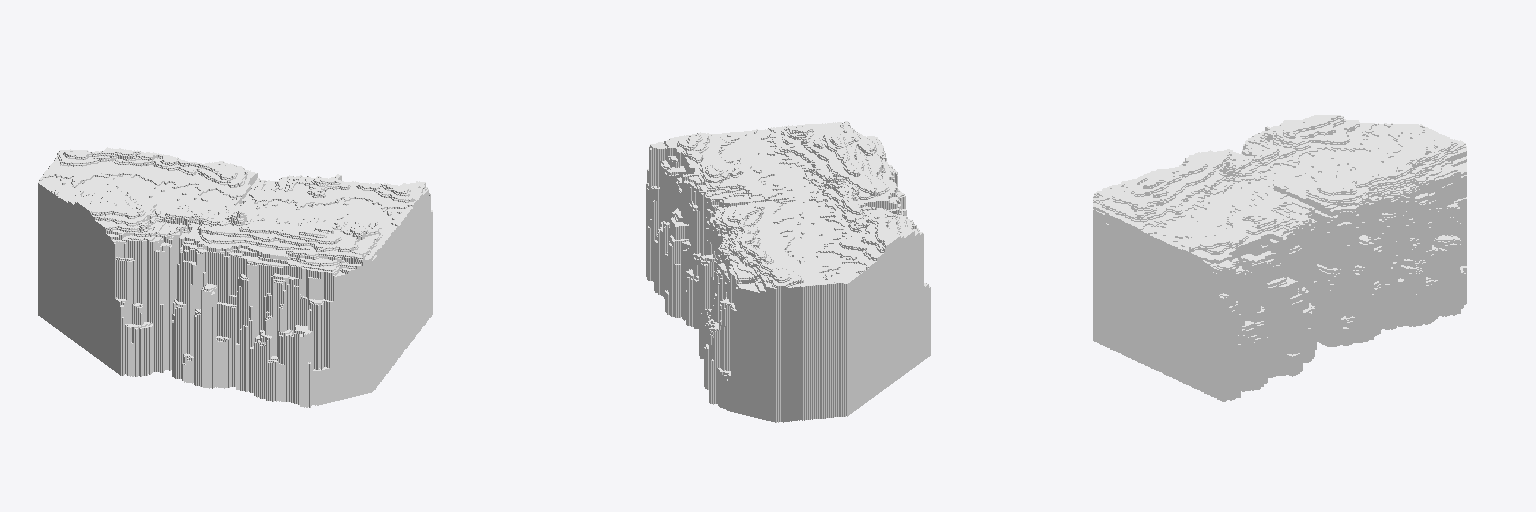
Rendered from Cubeland-17.obj.
3 views of the same model, side by side, from view 1: azimuth 30°, elevation 25°; view 2: azimuth 150°, elevation 25°; view 3: azimuth 270°, elevation 25° (orthographic).
Parts seen in each view (by area): view 1: object 1; view 2: object 1; view 3: object 1.
Part boxes in pixels (bbox=[...]): object 1: bbox=[38, 147, 432, 407]; object 1: bbox=[646, 121, 930, 422]; object 1: bbox=[1093, 115, 1466, 401].
Size of the model in its own units: 23.5 by 11.1 by 25.6.